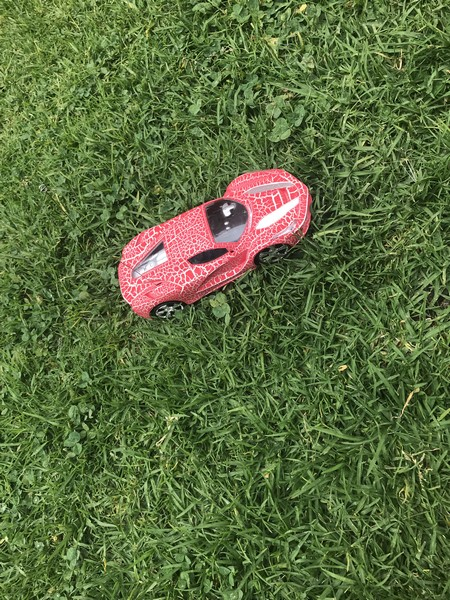RC: (115, 168, 313, 322)
